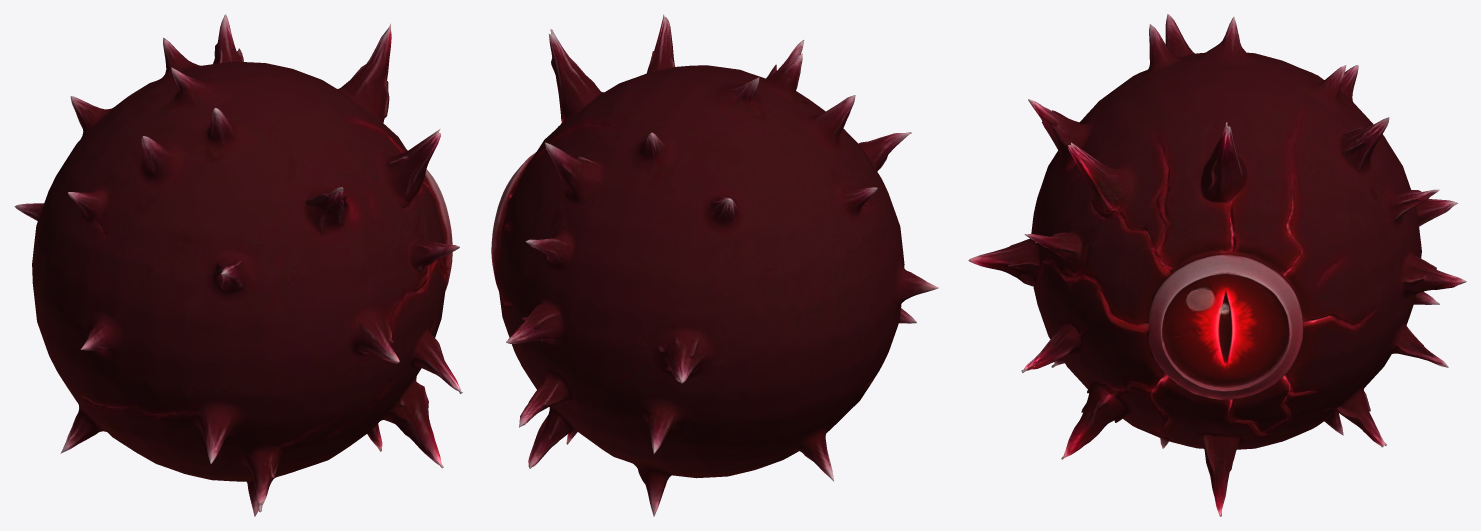
The model's file is ball_evil.glb.
3 renders of one model, left to right at view 1: azimuth 30°, elevation 25°; view 2: azimuth 150°, elevation 25°; view 3: azimuth 270°, elevation 25°, orthographic. The views are drawn at different scales.
Parts seen in each view (by area): view 1: tripo_node_653c621f-d962-4694-884f-be8c38d5a1f4; view 2: tripo_node_653c621f-d962-4694-884f-be8c38d5a1f4; view 3: tripo_node_653c621f-d962-4694-884f-be8c38d5a1f4.
Boxes of the visible parts, left/top/right/bottom form: tripo_node_653c621f-d962-4694-884f-be8c38d5a1f4: left=14, top=14, right=462, bottom=516; tripo_node_653c621f-d962-4694-884f-be8c38d5a1f4: left=491, top=14, right=938, bottom=516; tripo_node_653c621f-d962-4694-884f-be8c38d5a1f4: left=968, top=14, right=1466, bottom=516.
Size of the model in its own units: 0.8242 by 0.8941 by 0.9813.
Materials: 1 (1 with a texture image).
